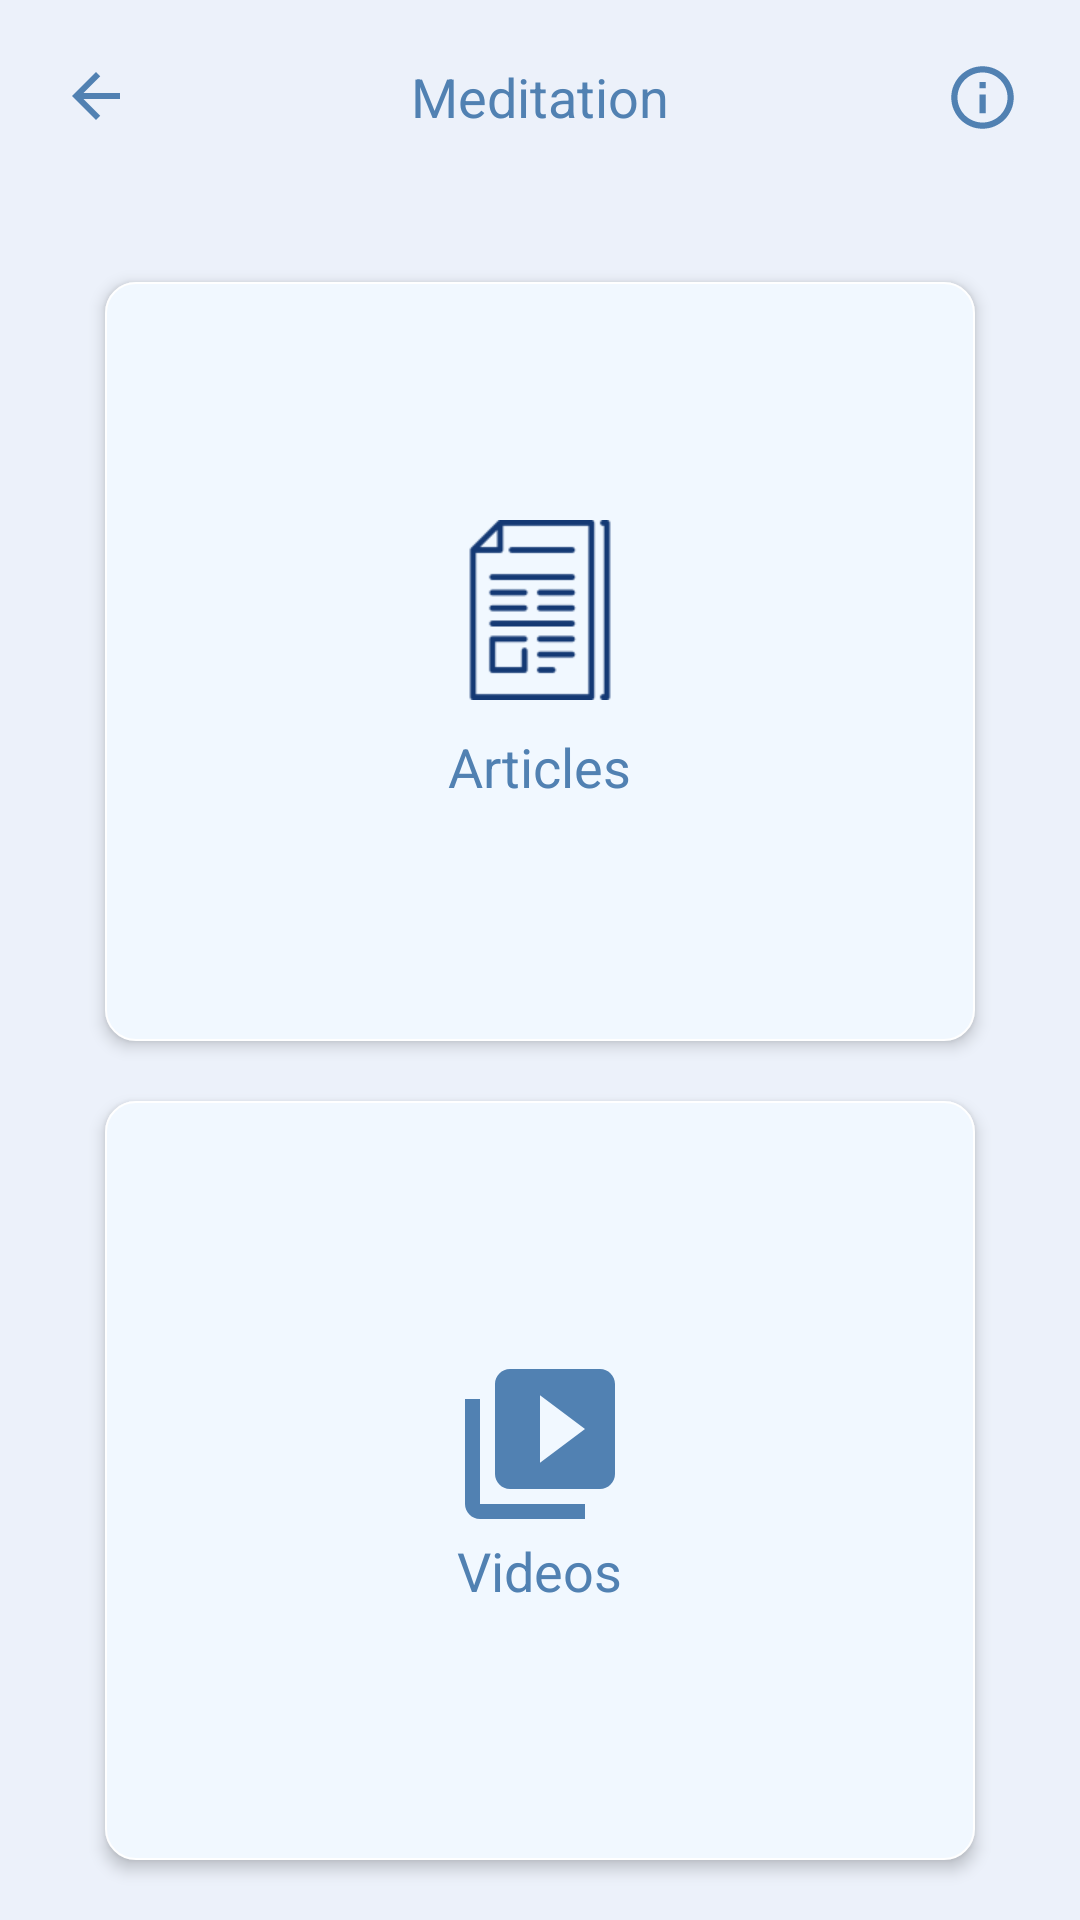

Icons on this 1080w x 1920h Android screen, each with the point to tap as point (x, y):
arrow back: point (96, 96)
info: point (982, 97)
